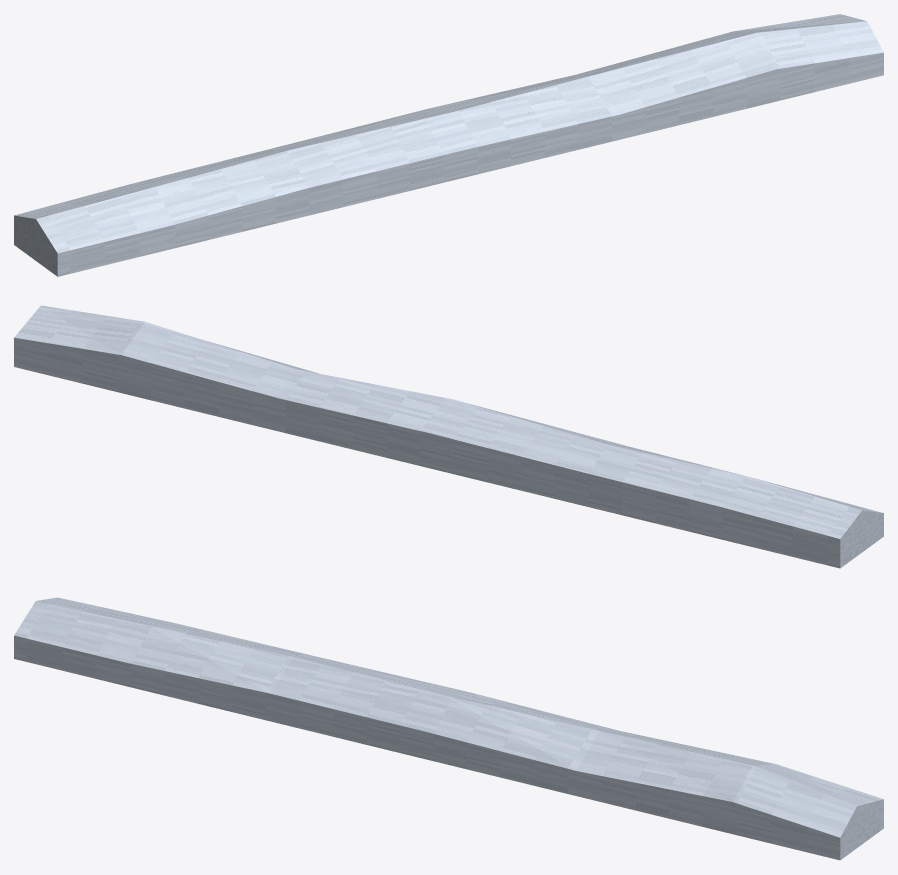
File: snow_rail_top.glb
The picture shows the model from 3 angles, top to bottom: view 1: azimuth 30°, elevation 25°; view 2: azimuth 150°, elevation 25°; view 3: azimuth 330°, elevation 25°; orthographic projection.
Parts seen in each view (by area): view 1: snow_rail_top; view 2: snow_rail_top; view 3: snow_rail_top.
Boxes of the visible parts, box(x1,y1,x2,y2) form: snow_rail_top: box(14, 14, 883, 276); snow_rail_top: box(14, 305, 883, 568); snow_rail_top: box(14, 597, 883, 860).
Bounding box in the file's own units: 1.2 × 0.075 × 0.11.
1 material, 1 textured.
